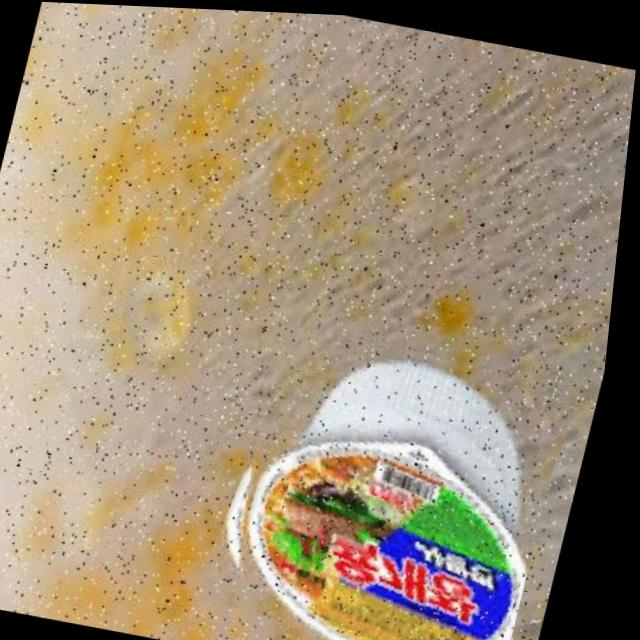Miscellaneous: (207, 310, 588, 640)
